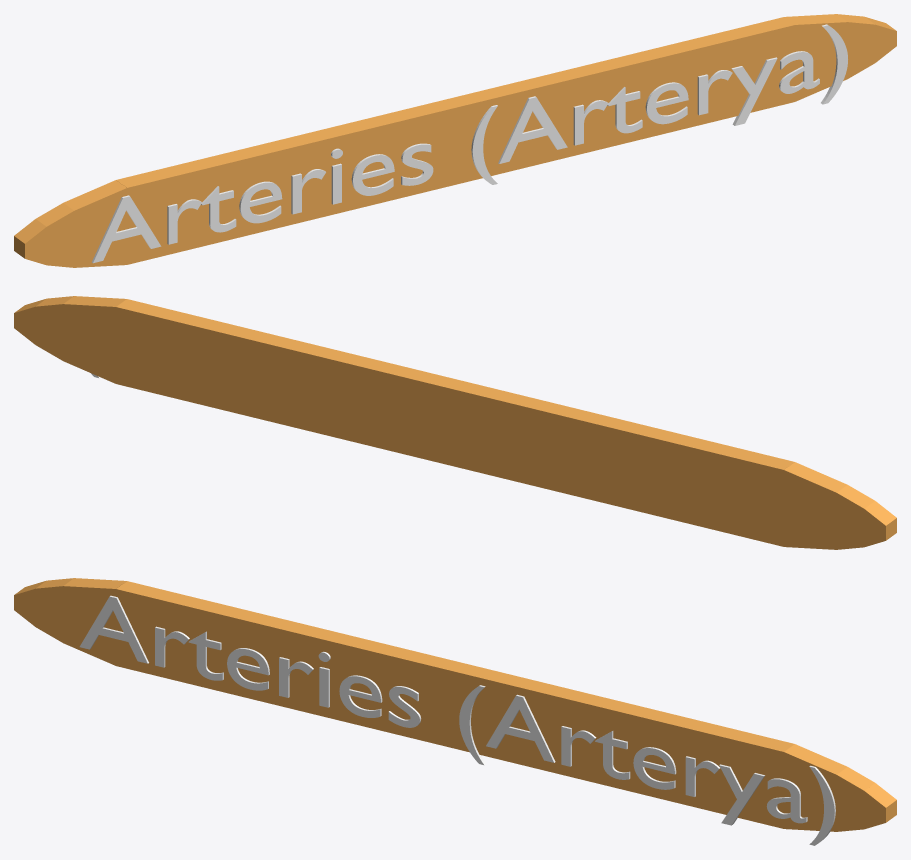
The model's file is txtArteries.fbx.
3 views of the same model, one above another, from view 1: azimuth 30°, elevation 25°; view 2: azimuth 150°, elevation 25°; view 3: azimuth 330°, elevation 25° (orthographic).
Parts seen in each view (by area): view 1: TagContainer.088, Text.089; view 2: TagContainer.088; view 3: TagContainer.088, Text.089.
Boxes of the visible parts, left/top/right/bottom form: TagContainer.088: left=14, top=14, right=896, bottom=267; Text.089: left=92, top=24, right=847, bottom=263; TagContainer.088: left=14, top=296, right=896, bottom=549; TagContainer.088: left=14, top=578, right=896, bottom=831; Text.089: left=79, top=595, right=835, bottom=845.
Bounding box in the file's own units: 489 × 45.66 × 11.92.
